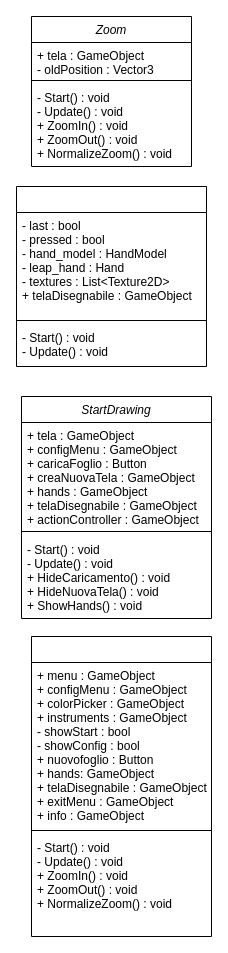
The diagram is 228 pixels wide and 953 high, and some of its shapes have lost their labels. Each missing label, with the box of its shape:
ShowMenu: (30, 636, 212, 936)
Undo: (16, 186, 206, 366)
